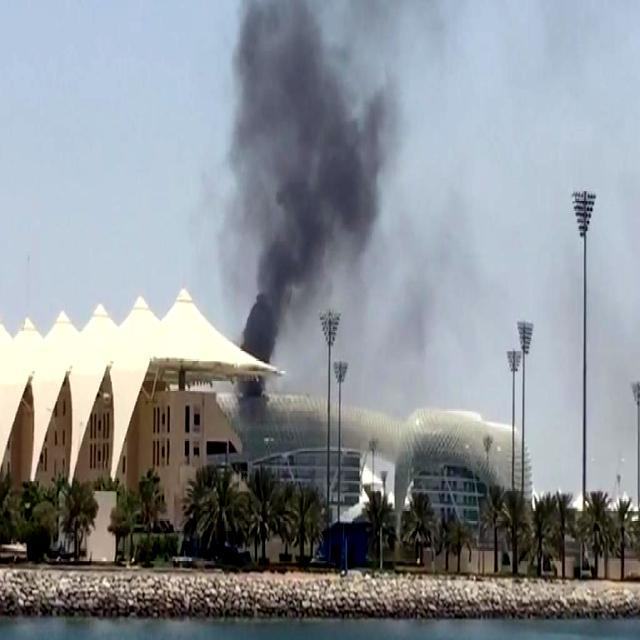Smoke: (222, 9, 388, 354)
